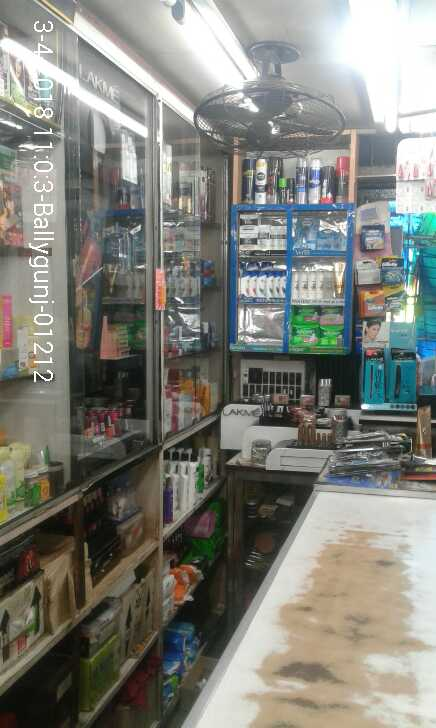gillete: (361, 225, 384, 250), (360, 290, 383, 315), (382, 257, 404, 283), (385, 287, 406, 311), (321, 166, 334, 203), (287, 177, 295, 203), (279, 178, 285, 202)
venus: (319, 215, 347, 250), (296, 216, 317, 248)
